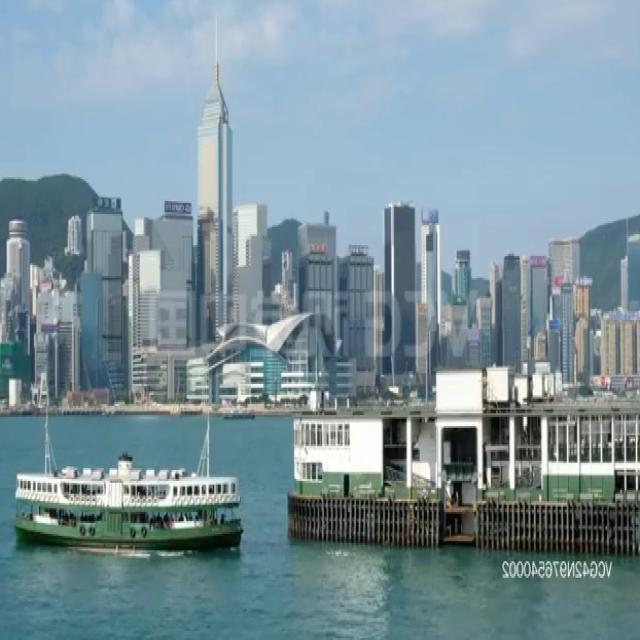passenger ship: (5, 411, 244, 553)
